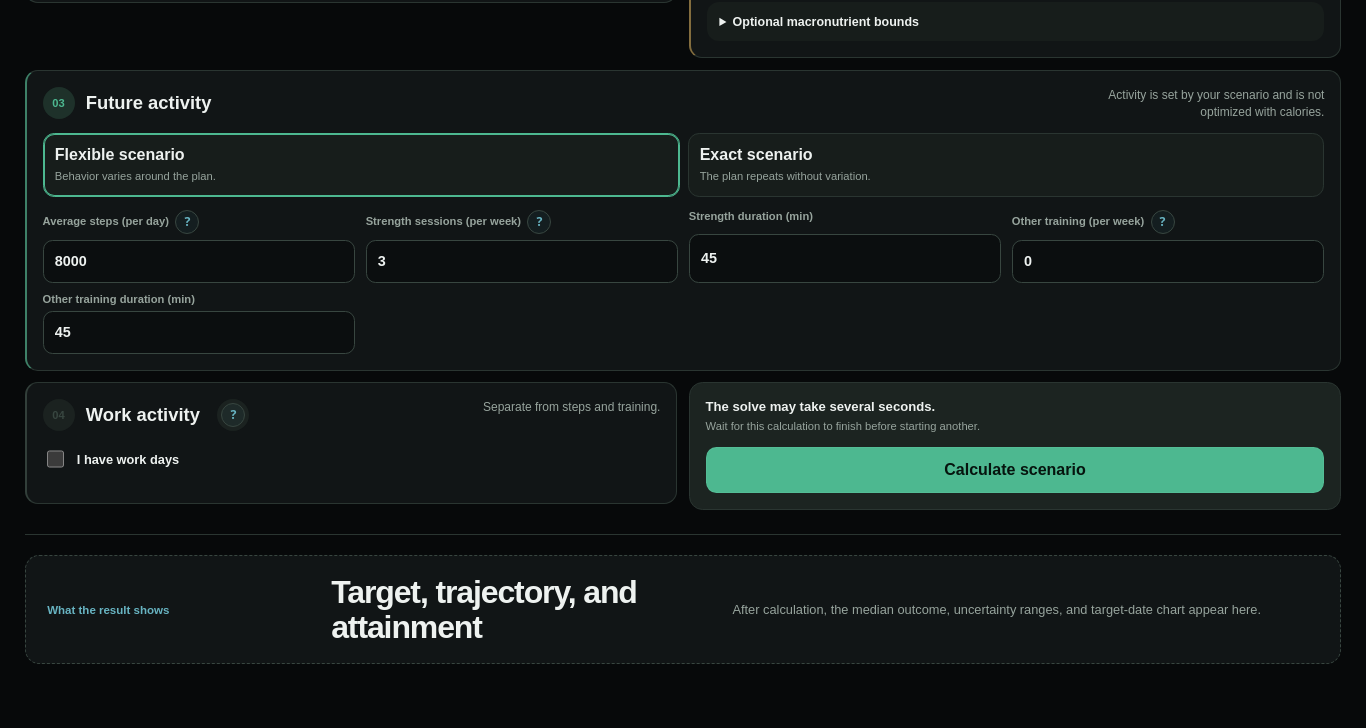
Test: GoalClient interaction › opens the planner for a valid modeled date and renders solver success
(page scrolled)
Expected: the text "Recommended nutrition" is not shown
Click the button "Calculate scenario" at (1015, 470), box [706,447,1324,493]
(page scrolled)
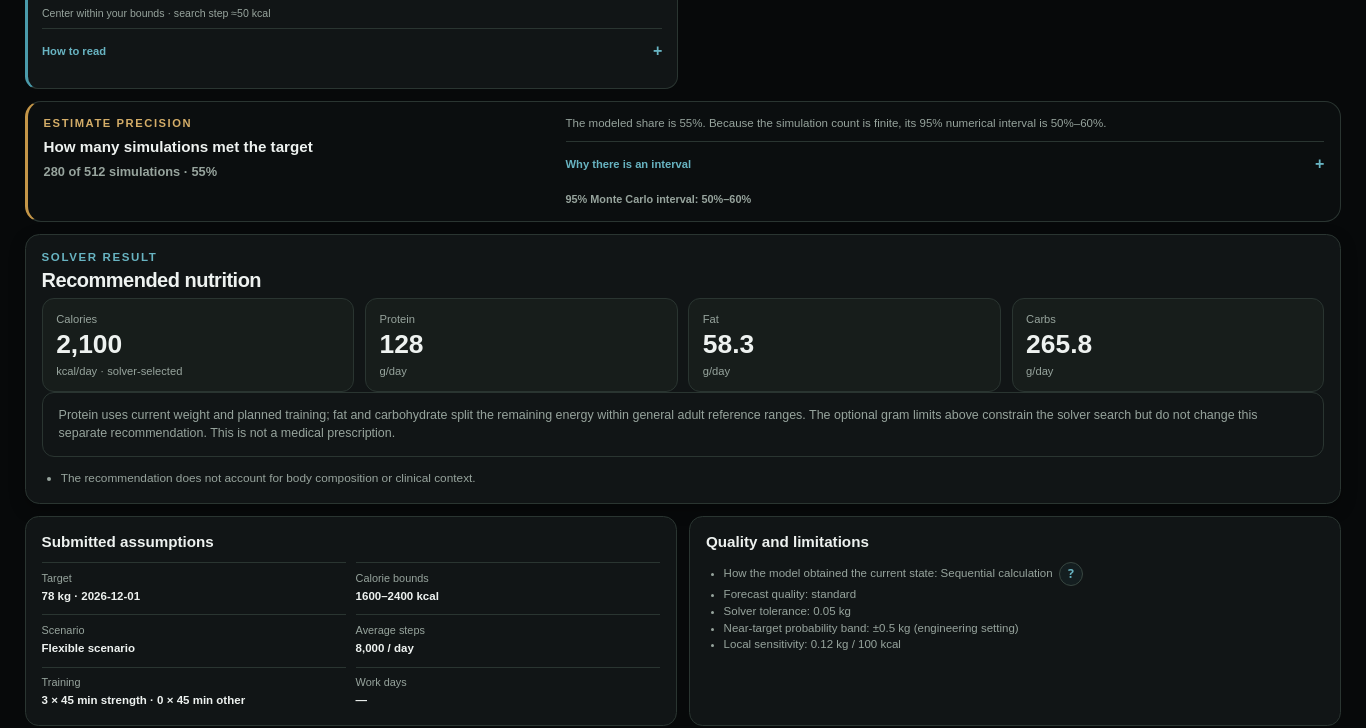
Now the heading "Recommended nutrition" is shown, box [42,269,261,291]
Now the list item "not account for body composition or clinical context" is shown, box [61,471,476,485]
Now the text "2,100" is shown, box [56,329,122,359]
